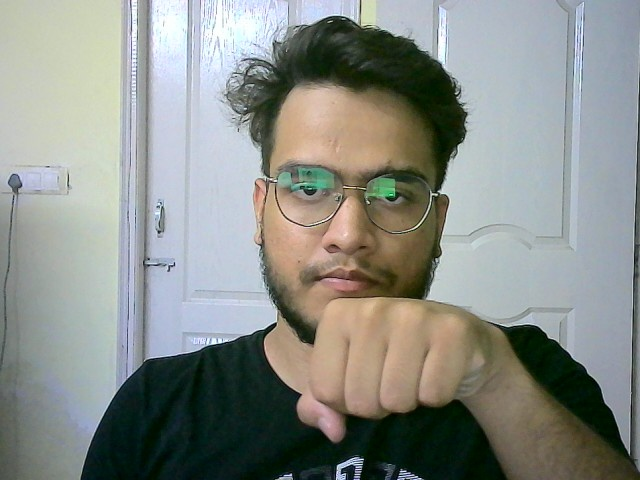Yes: (282, 291, 501, 445)
